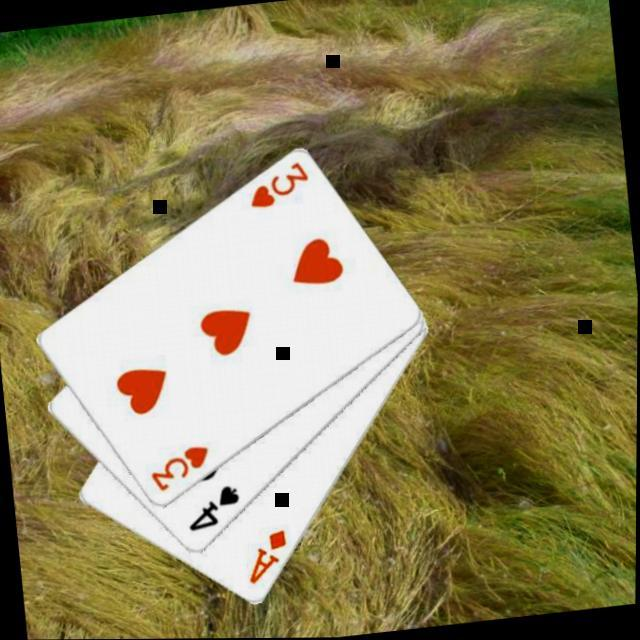3H: (144, 441, 215, 496), (242, 158, 313, 212)
4S: (180, 480, 244, 534)
AD: (240, 524, 294, 588)
